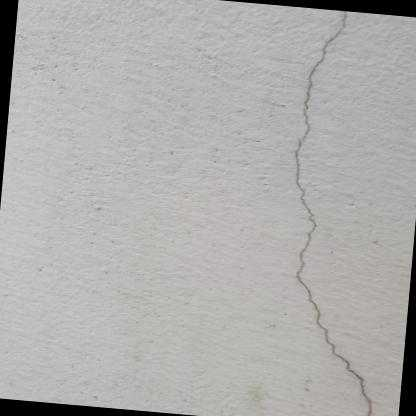crack: (291, 11, 373, 416)
